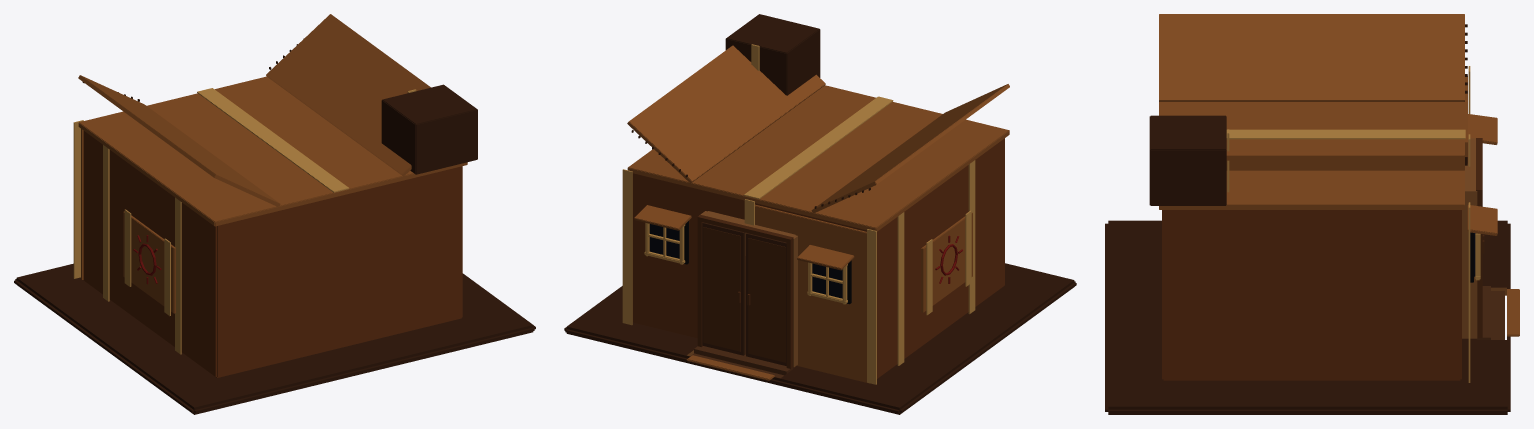
File: cardboard-fort-visual.obj
3 renders of one model, left to right at view 1: azimuth 30°, elevation 25°; view 2: azimuth 150°, elevation 25°; view 3: azimuth 270°, elevation 25°, orthographic. The views are drawn at different scales.
Parts seen in each view (by area): view 1: MainBox, Foundation_01, BoxFlaps, Patches; view 2: MainBox, Foundation_01, BoxFlaps, Patches, BoxWindows, HouseDoorLeaf_L_Panel, HouseDoorLeaf_R_Panel, HouseDoorLeaf_L, WalkApproach1, WalkEntryJamb1, HouseDoorLeaf_R, WalkEntryJamb-1 (+4 smaller); view 3: MainBox, BoxFlaps, Foundation_01, Patches, BoxWindows, WalkPassageLeft, WalkApproach0, Approach_01, WalkEntryJamb-1, WalkPassageCeiling, WalkApproach1, WalkEntryHeader.
Part boxes in pixels (<box>): MainBox: <box>73,76,467,377</box>; Foundation_01: <box>14,263,535,414</box>; BoxFlaps: <box>78,14,430,206</box>; Patches: <box>123,84,477,315</box>; MainBox: <box>622,85,1009,384</box>; Foundation_01: <box>564,263,1076,414</box>; BoxFlaps: <box>627,45,1009,213</box>; Patches: <box>725,14,972,315</box>; BoxWindows: <box>634,205,854,304</box>; HouseDoorLeaf_L_Panel: <box>703,227,740,351</box>; HouseDoorLeaf_R_Panel: <box>748,238,785,362</box>; HouseDoorLeaf_L: <box>702,222,745,355</box>; WalkApproach1: <box>694,346,792,375</box>; WalkEntryJamb1: <box>786,239,792,368</box>; HouseDoorLeaf_R: <box>746,233,786,365</box>; WalkEntryJamb-1: <box>697,218,702,346</box>; MainBox: <box>1159,66,1470,382</box>; BoxFlaps: <box>1159,14,1467,170</box>; Foundation_01: <box>1105,220,1510,414</box>; Patches: <box>1149,115,1229,205</box>; BoxWindows: <box>1467,114,1497,282</box>; WalkPassageLeft: <box>1462,195,1477,338</box>; WalkApproach0: <box>1491,291,1504,339</box>; Approach_01: <box>1507,289,1519,336</box>; WalkEntryJamb-1: <box>1477,191,1482,337</box>; WalkPassageCeiling: <box>1465,138,1477,194</box>; WalkApproach1: <box>1476,286,1490,339</box>; WalkEntryHeader: <box>1476,138,1482,194</box>.
Bounding box in the file's own units: 22 × 13.42 × 20.45.
